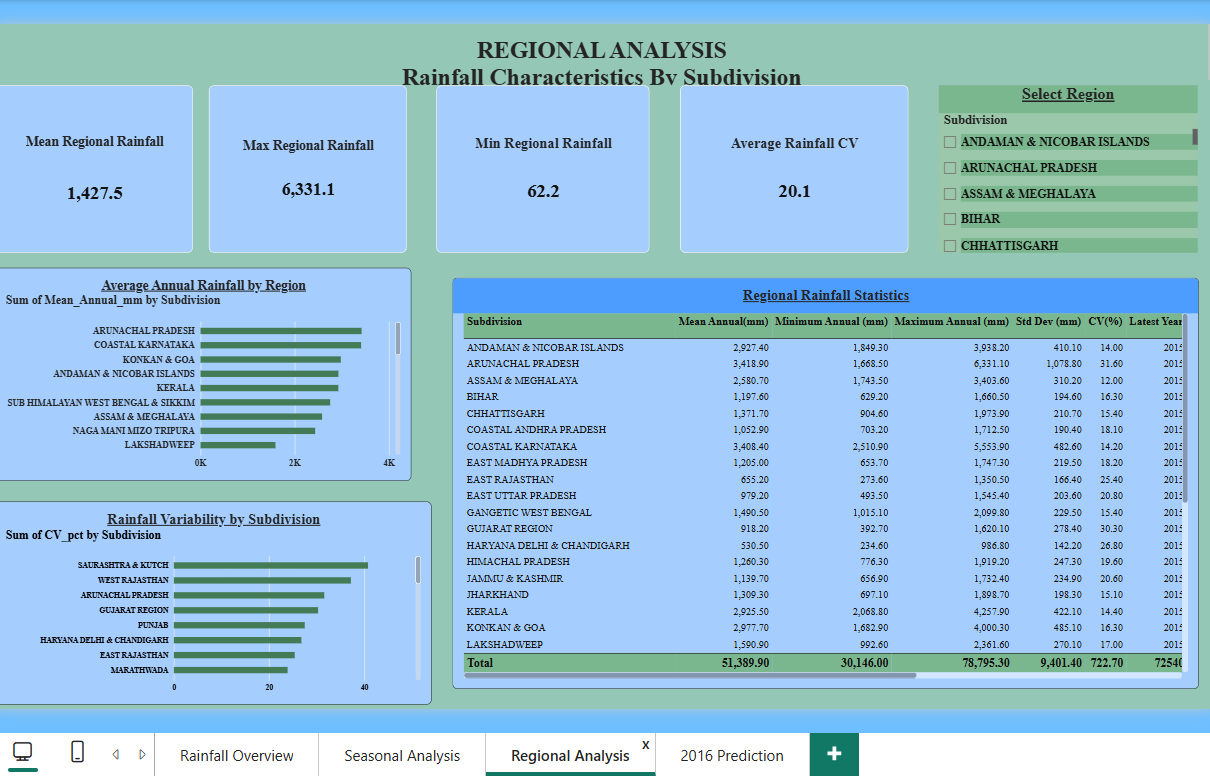

The dashboard page shown, as its layout file describes it:
{"tool":"powerbi","page":{"name":"Regional Analysis","canvas":[1920,1080],"ordinal":2},"visuals":[{"type":"textbox","box":[0,0,1920,96],"z":0},{"type":"cardVisual","fields":{"Data":["DimSubdivision.Mean Regional Rainfall"]},"box":[0,96,312,264],"z":1000},{"type":"cardVisual","fields":{"Data":["DimSubdivision.Max Regional Rainfall"]},"box":[336,96,312,264],"z":2000},{"type":"cardVisual","fields":{"Data":["DimSubdivision.Min Regional Rainfall"]},"box":[696,96,336,264],"z":3000},{"type":"cardVisual","fields":{"Data":["DimSubdivision.Average Rainfall CV"]},"box":[1080,96,360,264],"z":4000},{"type":"clusteredBarChart","title":"Average Annual Rainfall by Region","fields":{"Category":["subdivision_rainfall_summary.Subdivision"],"Y":["Sum(subdivision_rainfall_summary.Mean_Annual_mm)"]},"box":[0,384,656,336],"z":5000},{"type":"clusteredBarChart","title":"Rainfall Variability by Subdivision","fields":{"Category":["subdivision_rainfall_summary.Subdivision"],"Y":["Sum(subdivision_rainfall_summary.CV_pct)"]},"box":[0,752,688,320],"z":6000},{"type":"tableEx","title":"Regional Rainfall Statistics","fields":{"Values":["subdivision_rainfall_summary.Subdivision","Sum(subdivision_rainfall_summary.Mean_Annual_mm)","Sum(subdivision_rainfall_summary.Min_Annual_mm)","Sum(subdivision_rainfall_summary.Max_Annual_mm)","Sum(subdivision_rainfall_summary.Std_Dev_mm)","Sum(subdivision_rainfall_summary.CV_pct)","Sum(subdivision_rainfall_summary.Latest_Year)","Sum(subdivision_rainfall_summary.Latest_Annual_mm)","Sum(subdivision_rainfall_summary.Latest_Anomaly_pct)","DimSubdivision.SUBDIVISION"]},"box":[720,400,1176,648],"z":7000},{"type":"slicer","title":"Select Region","fields":{"Values":["subdivision_rainfall_summary.Subdivision"]},"box":[1488,96,408,264],"z":8000}]}

Visuals, with their boxes on the page's 1920x1080 design canvas (x1, y1, x2, y2). These are canvas units, not pixel positions in the 1210x776 screenshot, which may show the page scaled, cropped or inside an application window:
textbox: (0,0,1920,96)
cardVisual - DimSubdivision.Mean Regional Rainfall: (0,96,312,360)
cardVisual - DimSubdivision.Max Regional Rainfall: (336,96,648,360)
cardVisual - DimSubdivision.Min Regional Rainfall: (696,96,1032,360)
cardVisual - DimSubdivision.Average Rainfall CV: (1080,96,1440,360)
"Average Annual Rainfall by Region" clusteredBarChart: (0,384,656,720)
"Rainfall Variability by Subdivision" clusteredBarChart: (0,752,688,1072)
"Regional Rainfall Statistics" tableEx: (720,400,1896,1048)
"Select Region" slicer: (1488,96,1896,360)
